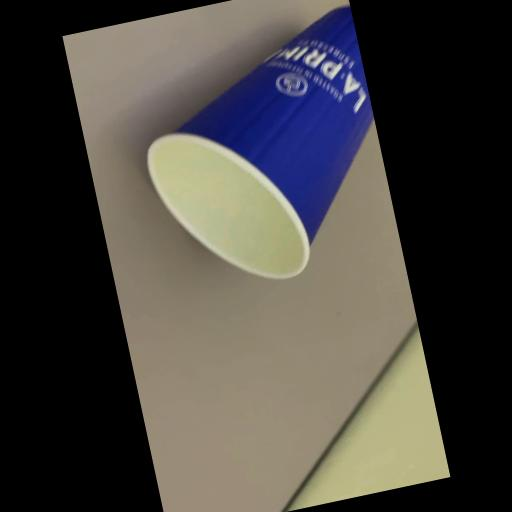lp_paper_cup: (115, 3, 403, 305)
